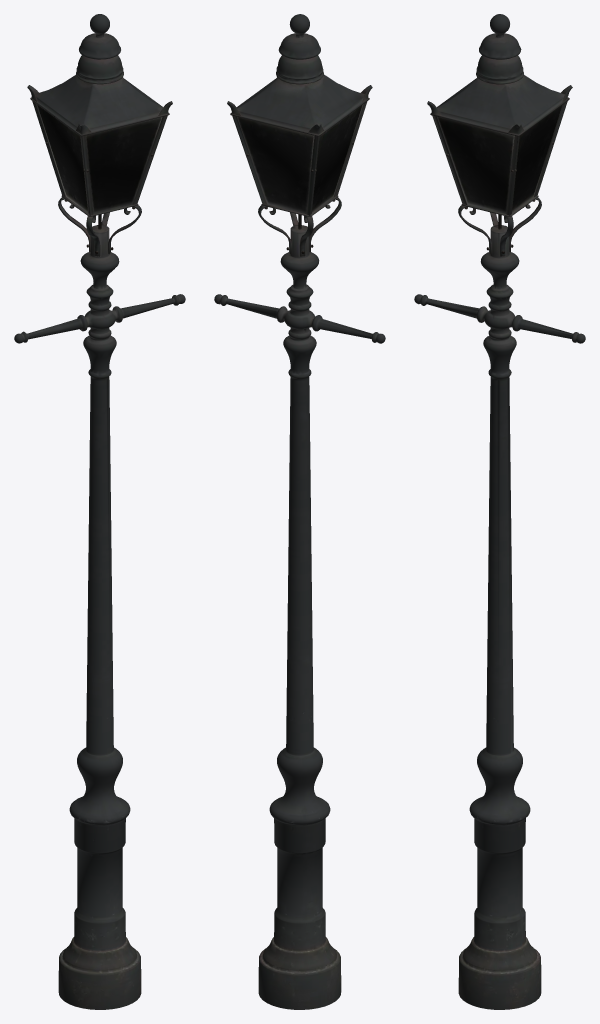
The model's file is street_lamp_01.glb.
3 views of the same model, side by side, from view 1: azimuth 30°, elevation 25°; view 2: azimuth 150°, elevation 25°; view 3: azimuth 330°, elevation 25° (orthographic).
Parts seen in each view (by area): view 1: street_lamp_01; view 2: street_lamp_01; view 3: street_lamp_01.
Boxes of the visible parts, <box> form: street_lamp_01: <box>14,14,185,1009</box>; street_lamp_01: <box>214,14,385,1009</box>; street_lamp_01: <box>414,14,585,1009</box>.
Size of the model in its own units: 0.7036 by 3.87 by 0.386.
Materials: 2 (2 with a texture image).
